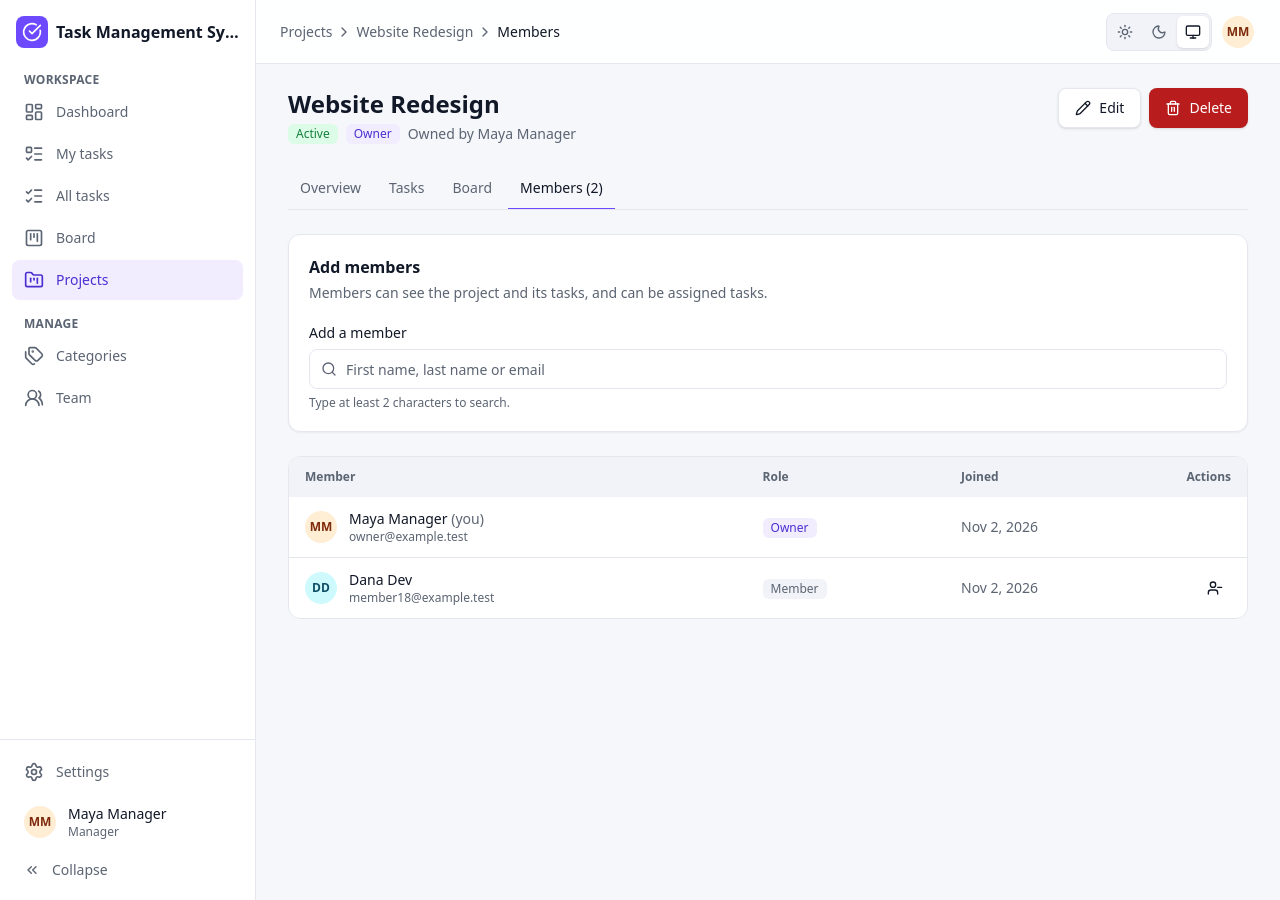
Project members › removes a member after saying how many of their tasks become unassigned; the owner has no remove button
This screenshot has width=1280, height=900.
expect the table named "Members of Website Redesign" is shown: met, box [289, 457, 1247, 618]
Click the button named "Remove Dana Dev": coordinates (1215, 588) [1199, 572, 1231, 604]
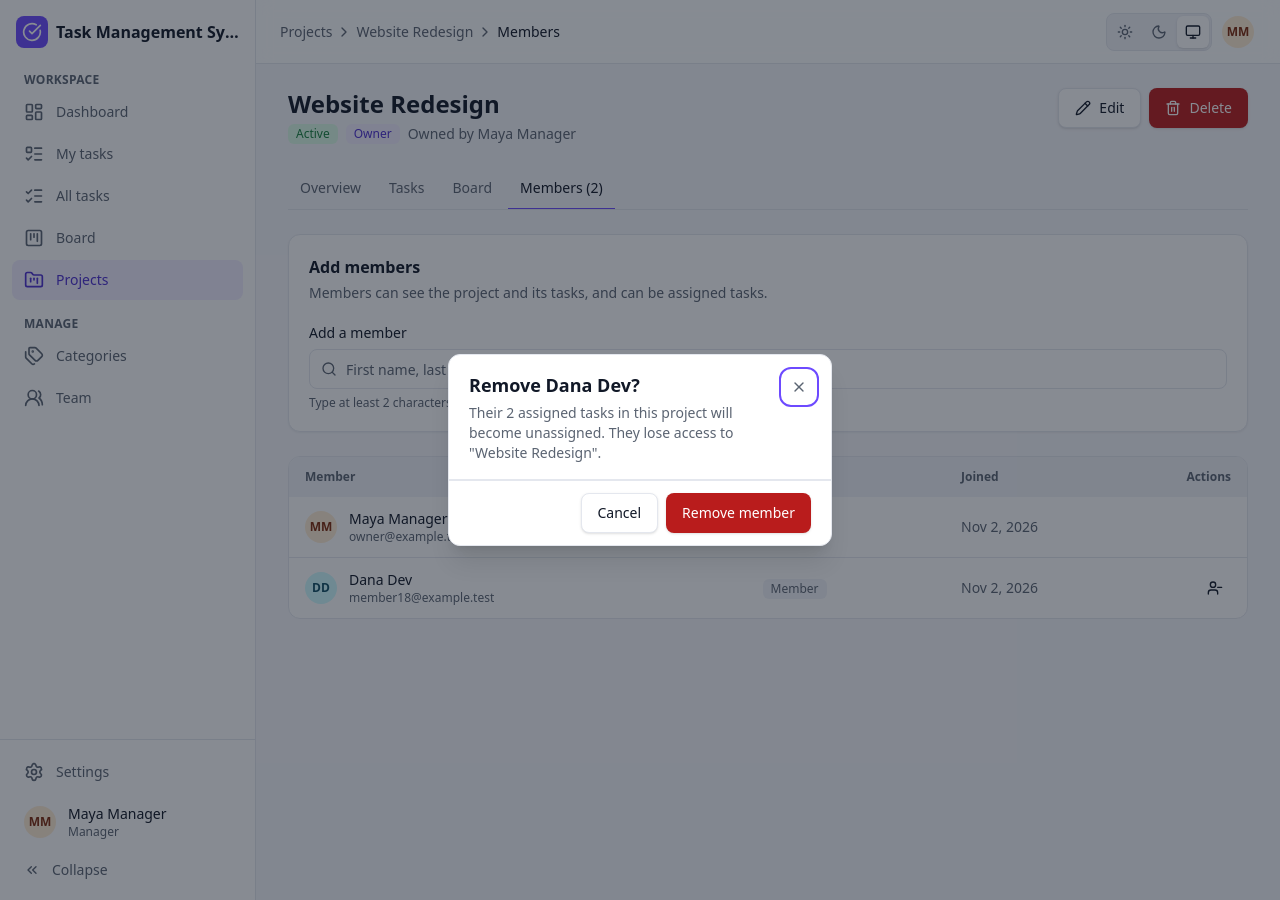
expect the text "Their 2 assigned tasks in this project will become unassigned." is shown: met, box [469, 403, 734, 462]
Click the button "Remove member": coordinates (739, 513) [666, 493, 811, 533]
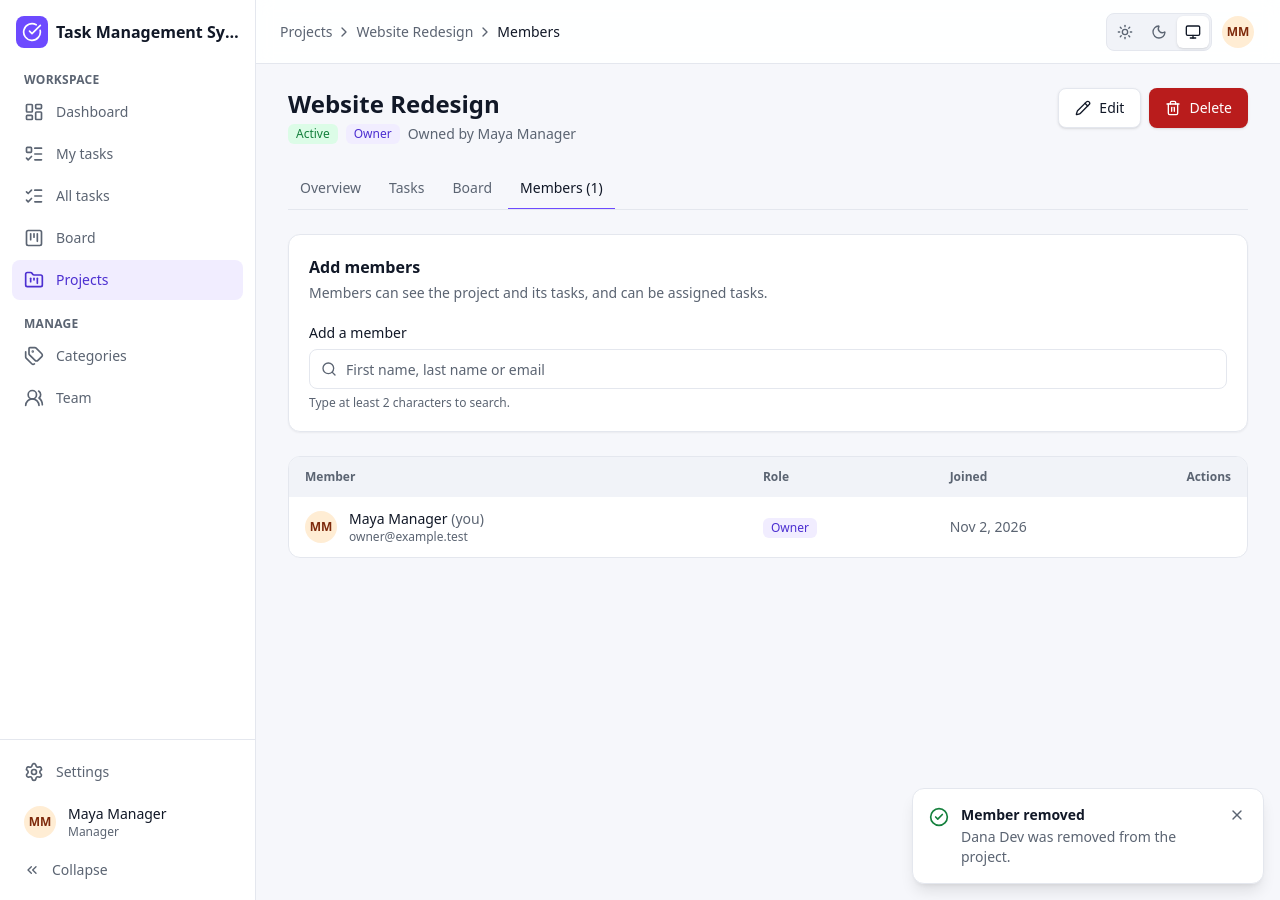
expect the text "Member removed" is shown: met, box [961, 805, 1085, 824]
